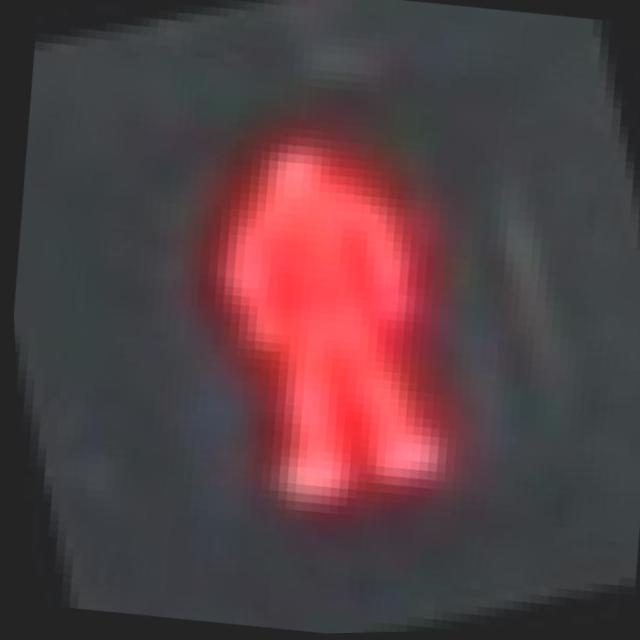red_light: (30, 29, 604, 623)
